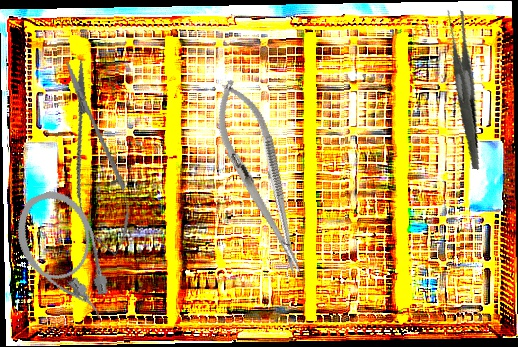Cannula: (5, 181, 123, 336)
Dressing Forceps: (418, 7, 509, 171)
Micro Scissor: (48, 55, 141, 261)
Needle Holder: (202, 72, 319, 283)
